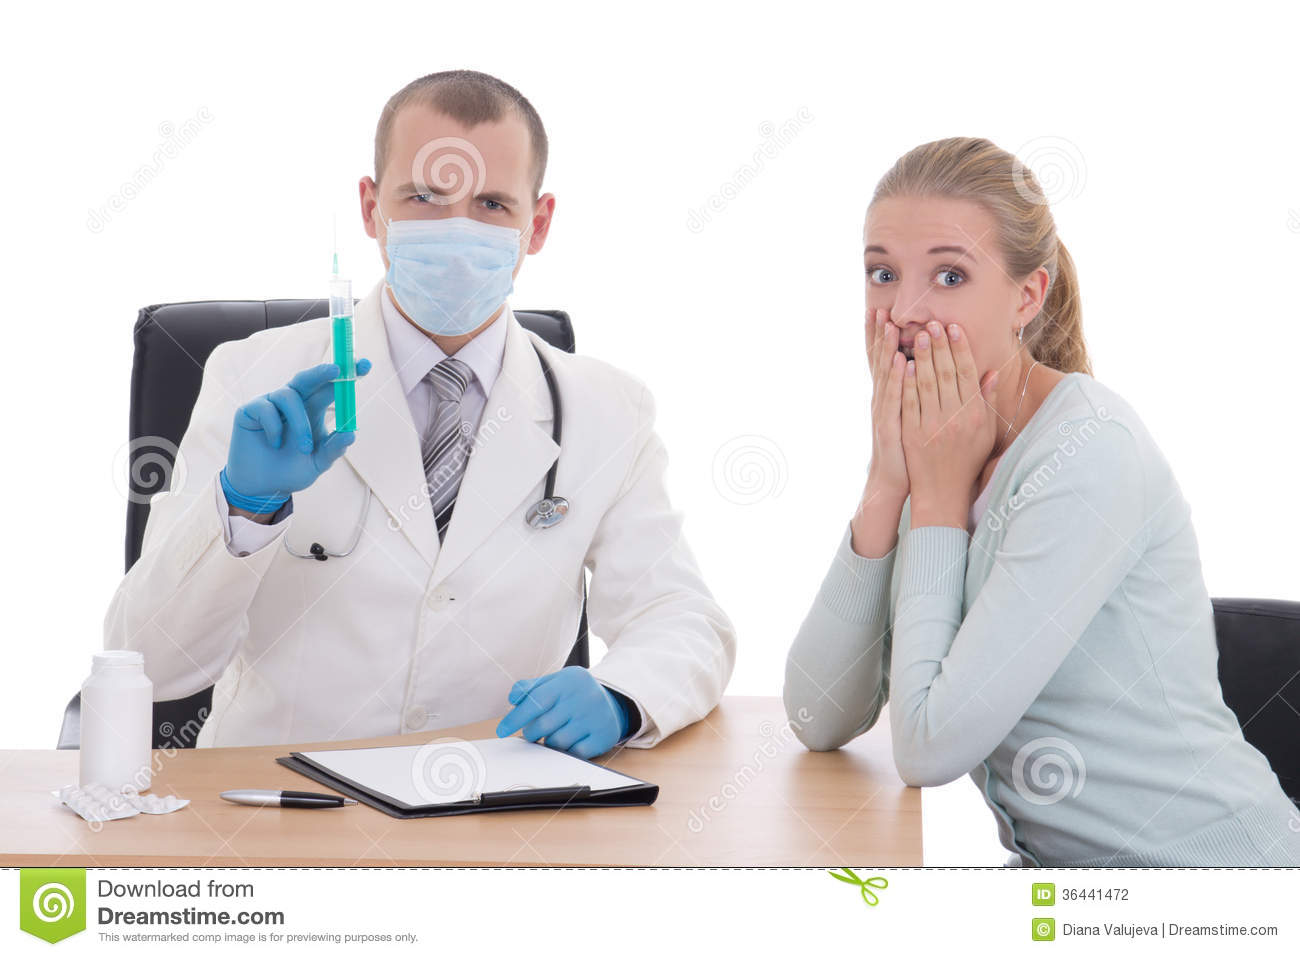mask: (384, 220, 519, 338)
